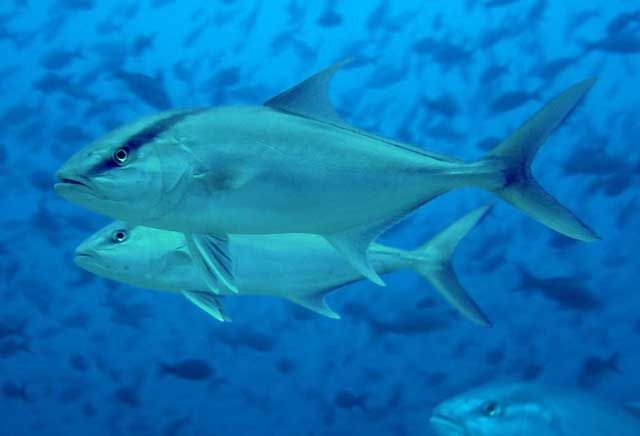fish: (54, 57, 602, 244)
